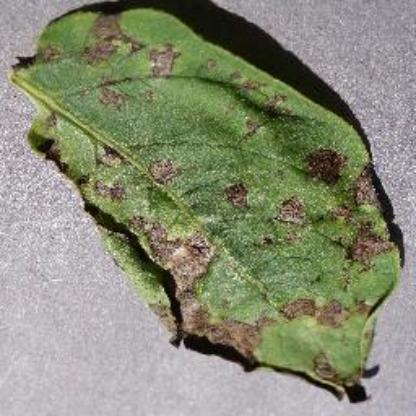Early-Blight: (6, 9, 400, 403)
